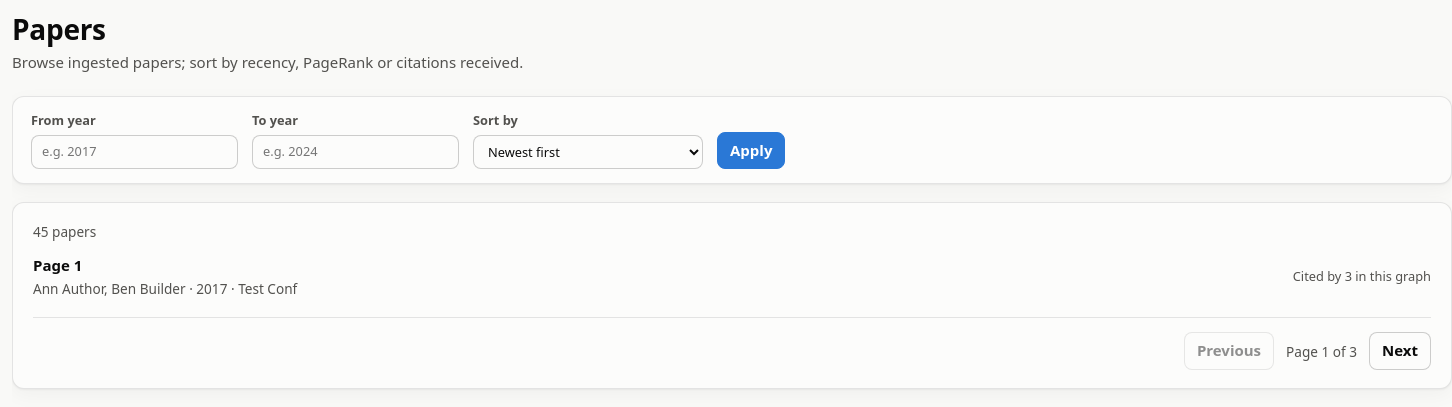
Scenario: PapersPage › pages through results
The image size is (1452, 407).
Check: the link "Page 1" is shown, box [33,255,82,275]
What coordinates should you click on to do the following:
click the button "Next"
I would click on:
 (1400, 351)
Its box is [1369,332,1431,370].
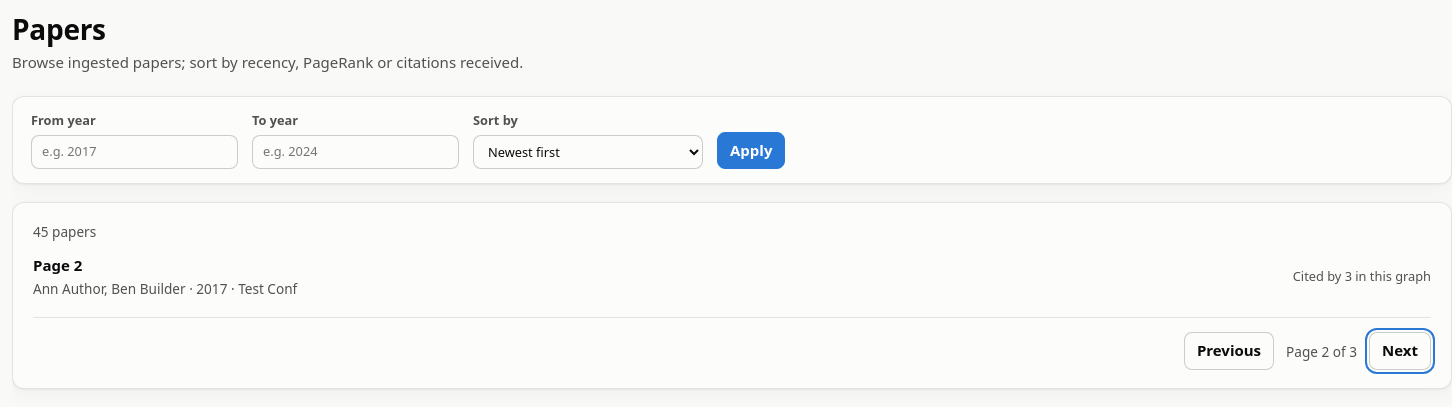
Check: the link "Page 2" is shown, box [33,255,82,275]
